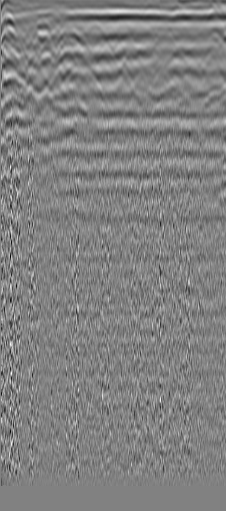가스: (215, 148, 226, 184)
오수: (21, 20, 58, 54)
우수: (206, 26, 226, 46)
